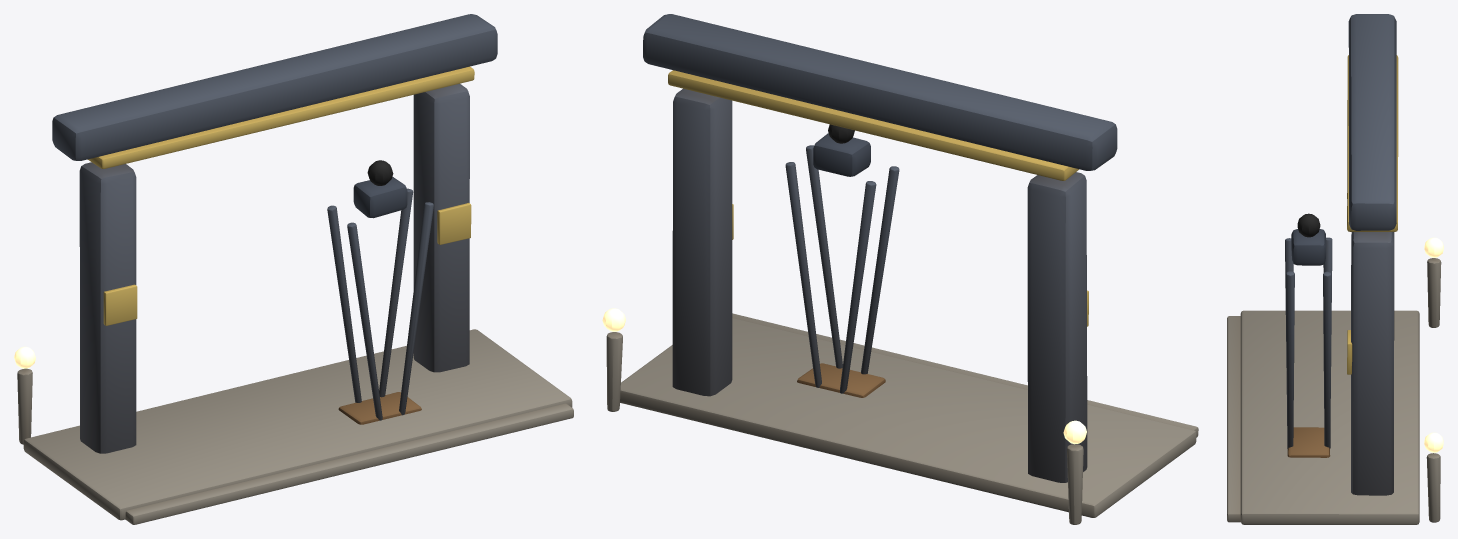
3 views of the same model, side by side, from view 1: azimuth 30°, elevation 25°; view 2: azimuth 150°, elevation 25°; view 3: azimuth 270°, elevation 25° (orthographic). The views are drawn at different scales.
Visible parts, largest first — view 1: gate_2be43a5b; view 2: gate_2be43a5b; view 3: gate_2be43a5b.
Boxes of the visible parts, x1,y1,x2,y2 form: gate_2be43a5b: [14, 14, 573, 524]; gate_2be43a5b: [602, 14, 1198, 524]; gate_2be43a5b: [1227, 14, 1443, 524].
Bounding box in the file's own units: 5.67 × 4.12 × 2.54.
